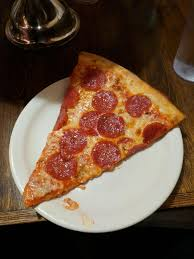pizza: (20, 46, 191, 209)
